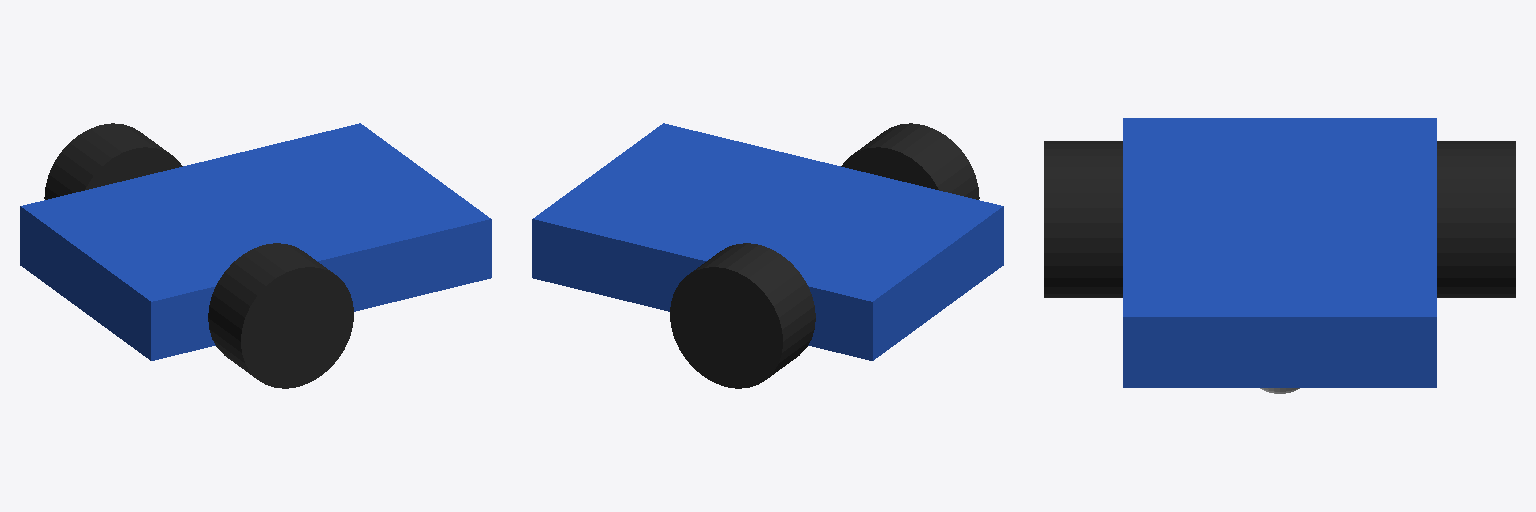
The robot description file, URDF, robot "my_robot":
<?xml version="1.0"?>
<robot name="my_robot">

<!--Root of the TF tree. This is a ground level frame -->
<link name="base_footprint"/>

<!--This is a fixed joint that holds the chassis above the ground -->
<joint name="base_joint" type="fixed">
  <parent link="base_footprint"/>
  <child link="base_link"/>
  <origin xyz="0 0 0.1" rpy="0 0 0"/>
</joint>

<!--Contains the body of the robot with box geometry 
and is parent to every other link.-->
<link name="base_link">
  <visual>
    <origin xyz="0 0 0" rpy="0 0 0"/>
    <geometry>
      <box size="0.6 0.4 0.1"/>
    </geometry>
    <material name="blue">
      <color rgba="0.2 0.4 0.8 1.0"/>
    </material>
  </visual>
</link>

<!--Left drive wheel. The cylinder is left standing up here,
because the joint below turns the whole wheel frame instead.-->
<link name="left_wheel">
  <visual>
    <origin xyz="0 0 0" rpy="0 0 0"/>
    <geometry>
      <cylinder radius="0.1" length="0.1"/>
    </geometry>
    <material name="dark_grey">
      <color rgba="0.2 0.2 0.2 1.0"/>
    </material>
  </visual>
</link>

<!--Continuous joint so the wheel can rotate freely. The rpy tips the
wheel frame a quarter turn, which both lays the cylinder flat and points
its own z axis sideways, so the axis below is the rolling axis.-->
<joint name="left_wheel_joint" type="continuous">
  <parent link="base_link"/>
  <child link="left_wheel"/>
  <origin xyz="-0.1 0.25 0" rpy="-1.5708 0 0"/>
  <axis xyz="0 0 1"/>
</joint>

<!--Right drive wheel. Same as left wheel.-->
<link name="right_wheel">
  <visual>
    <origin xyz="0 0 0" rpy="0 0 0"/>
    <geometry>
      <cylinder radius="0.1" length="0.1"/>
    </geometry>
    <material name="dark_grey"/>
  </visual>
</link>

<!--Mirrored joint for the right wheel. Same rpy and same axis as the
left wheel, so both wheels turn the same direction for the same value.-->
<joint name="right_wheel_joint" type="continuous">
  <parent link="base_link"/>
  <child link="right_wheel"/>
  <origin xyz="-0.1 -0.25 0" rpy="-1.5708 0 0"/>
  <axis xyz="0 0 1"/>
</joint>

<!--Caster wheel. A sphere assumed to roll in any direction.-->
<link name="caster_wheel">
  <visual>
    <origin xyz="0 0 0" rpy="0 0 0"/>
    <geometry>
      <sphere radius="0.05"/>
    </geometry>
    <material name="light_grey">
      <color rgba="0.7 0.7 0.7 1.0"/>
    </material>
  </visual>
</link>

<!-- This is a fixed joint at the front. -->
<joint name="caster_joint" type="fixed">
  <parent link="base_link"/>
  <child link="caster_wheel"/>
  <origin xyz="0.2 0 -0.05" rpy="0 0 0"/>
</joint>

</robot>

--- Facts derived from the render (not from the file) ---
3 views of the same robot in one strip: view 1: azimuth 30°, elevation 25°; view 2: azimuth 150°, elevation 25°; view 3: azimuth 270°, elevation 25° (orthographic).
Model my_robot with 5 links and 4 joints (2 continuous, 2 fixed), rooted at base_footprint, posed every joint at zero.
Visible links, largest first — view 1: base_link, right_wheel, left_wheel; view 2: base_link, left_wheel, right_wheel; view 3: base_link, left_wheel, right_wheel.
Boxes of the visible links, <box> form: base_link: <box>20,123,491,360</box>; right_wheel: <box>208,243,353,388</box>; left_wheel: <box>44,123,182,199</box>; base_link: <box>532,123,1003,360</box>; left_wheel: <box>670,243,815,388</box>; right_wheel: <box>841,123,979,199</box>; base_link: <box>1123,118,1436,387</box>; left_wheel: <box>1437,141,1515,297</box>; right_wheel: <box>1044,141,1122,297</box>.
Bounding box of the posed robot: 0.6 × 0.6 × 0.2 m (x, y, z).
Geometry: primitives only (box / cylinder / sphere), no mesh files.
